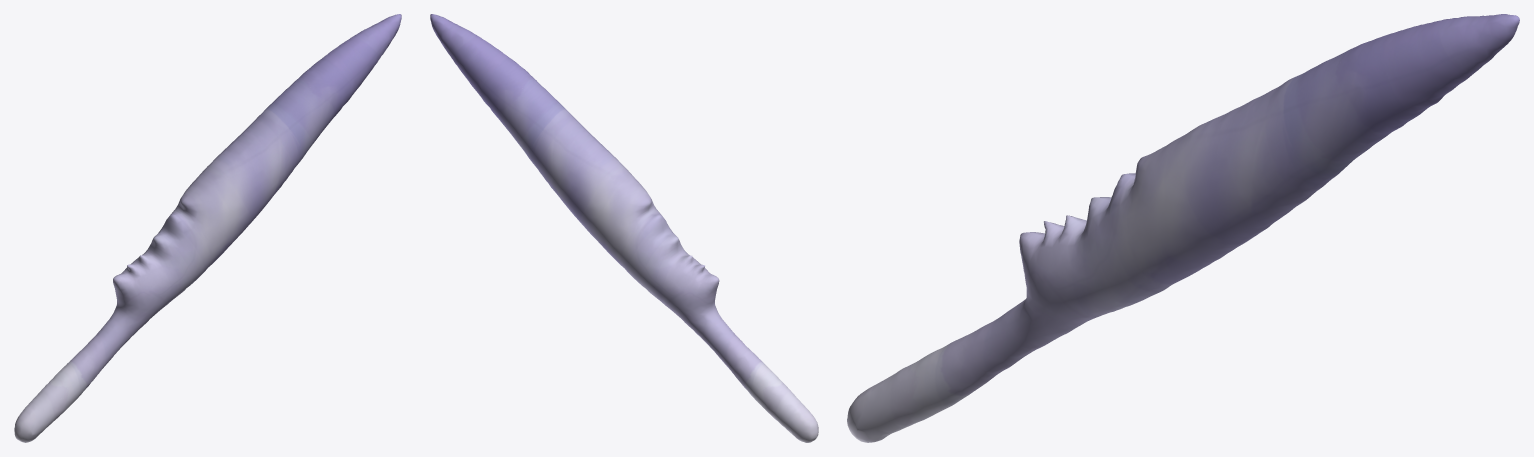
The model's file is Knife0.82f51a0b.glb.
3 views of the same model, side by side, from view 1: azimuth 30°, elevation 25°; view 2: azimuth 150°, elevation 25°; view 3: azimuth 330°, elevation 25° (orthographic). The views are drawn at different scales.
Size of the model in its own units: 7.65 by 6.37 by 1.18.
Materials: 1 (1 with a texture image).
